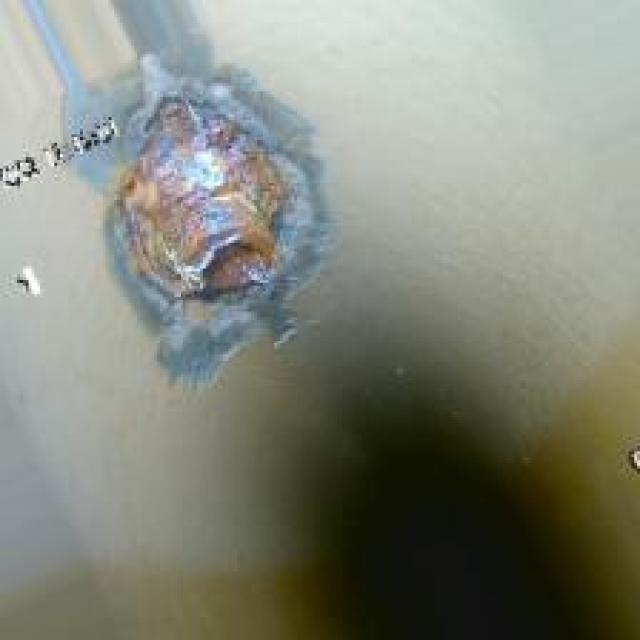ferrule: (134, 95, 300, 312)
